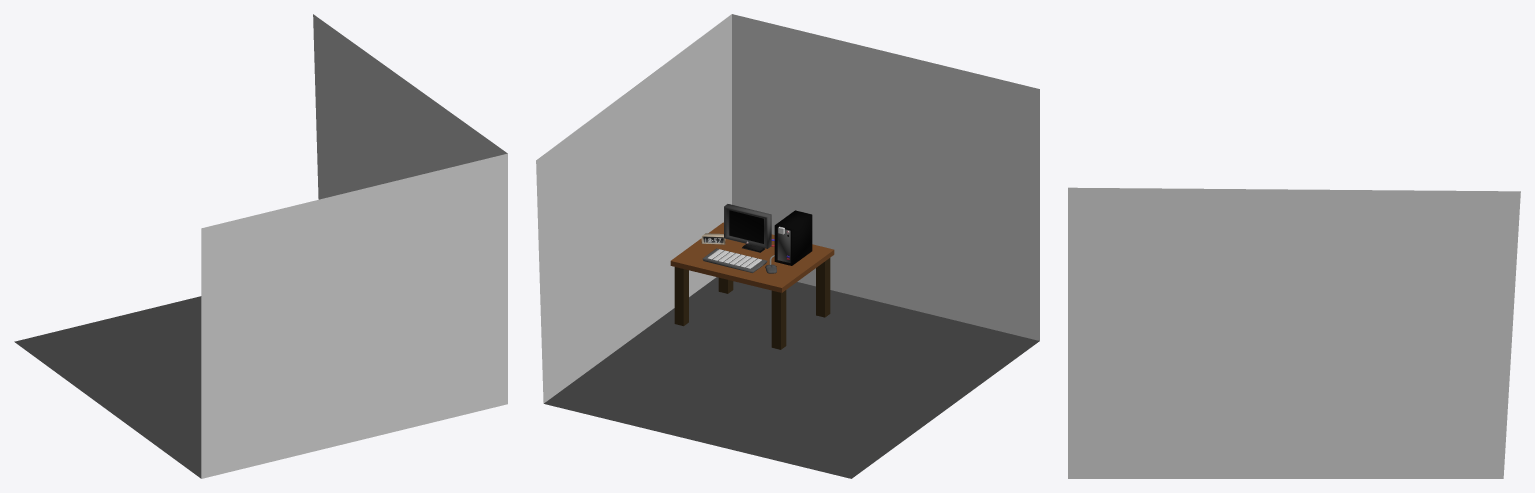
Rendered from DeskScene_new.glb.
3 renders of one model, left to right at view 1: azimuth 30°, elevation 25°; view 2: azimuth 150°, elevation 25°; view 3: azimuth 270°, elevation 25°, orthographic. The views are drawn at different scales.
Visible parts, largest first — view 1: Plane.001; view 2: Plane.001, Cube.006, Cube.010, Cube, Plane, Cube.009; view 3: Plane.001.
Part boxes in pixels (x1,y1,x2,y2): Plane.001: (14, 14, 507, 478); Plane.001: (536, 14, 1039, 478); Cube.006: (670, 222, 834, 292); Cube.010: (674, 258, 830, 349); Cube: (774, 210, 812, 265); Plane: (724, 204, 771, 248); Cube.009: (702, 248, 767, 272); Plane.001: (1068, 187, 1520, 478).
Size of the model in its own units: 26.94 by 21.27 by 29.67.
